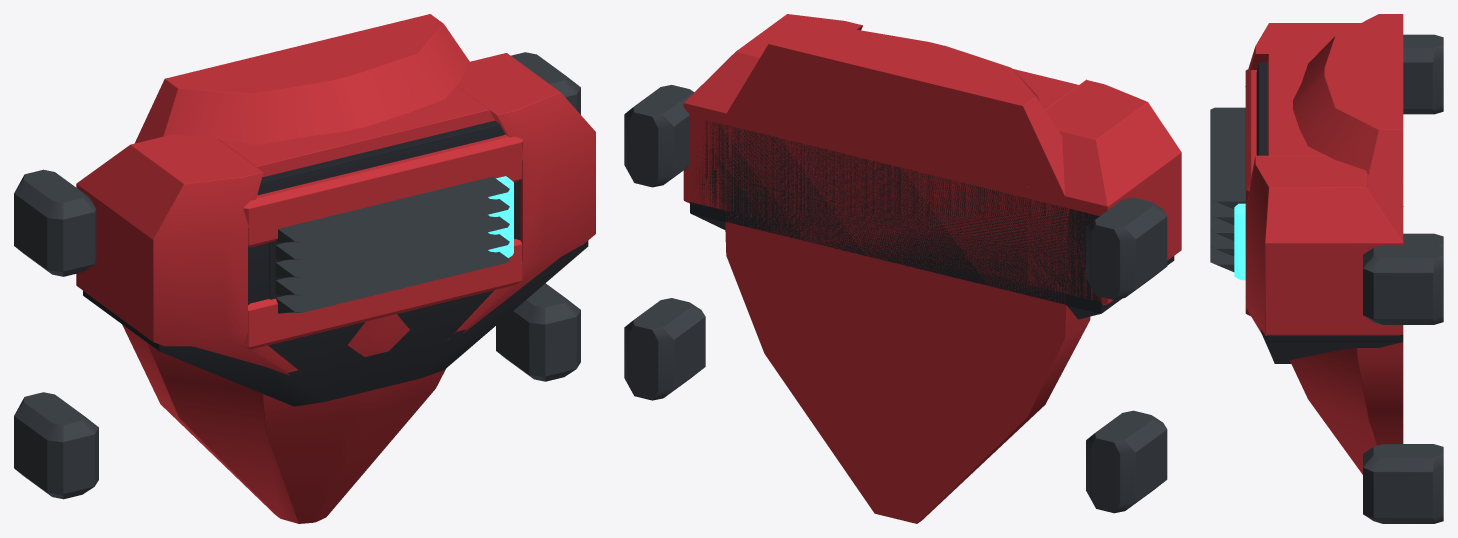
File: UpperArmBack_Set03_Overclock.fbx
The picture shows the model from 3 angles, left to right: view 1: azimuth 30°, elevation 25°; view 2: azimuth 150°, elevation 25°; view 3: azimuth 270°, elevation 25°; orthographic projection. The views are drawn at different scales.
Parts seen in each view (by area): view 1: UpperArmBack_Set03_Overclock; view 2: UpperArmBack_Set03_Overclock; view 3: UpperArmBack_Set03_Overclock.
Boxes of the visible parts, box(x1,y1,x2,y2) form: UpperArmBack_Set03_Overclock: box(14, 14, 595, 523); UpperArmBack_Set03_Overclock: box(624, 14, 1181, 523); UpperArmBack_Set03_Overclock: box(1210, 14, 1443, 523).
Bounding box in the file's own units: 0.41 × 0.34 × 0.1733.
